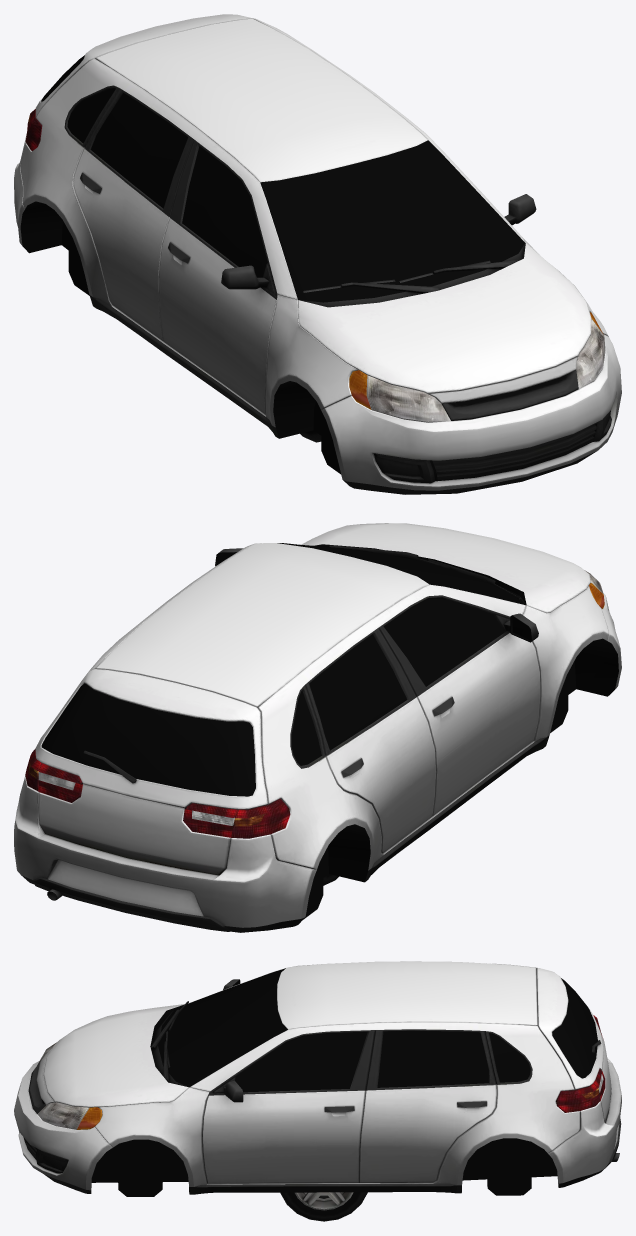
File: gen-hatchback.lod.glb
3 views of the same model, one above another, from view 1: azimuth 30°, elevation 25°; view 2: azimuth 150°, elevation 25°; view 3: azimuth 270°, elevation 25° (orthographic). The views are drawn at different scales.
Visible parts, largest first — view 1: body; view 2: body; view 3: body, wheel.
Boxes of the visible parts, bbox=[...] form: body: bbox=[14, 14, 621, 494]; body: bbox=[14, 523, 621, 932]; body: bbox=[14, 961, 621, 1196]; wheel: bbox=[280, 1192, 367, 1221].
Bounding box in the file's own units: 1.74 × 1.65 × 3.96.
Materials: 6 (5 with a texture image).
